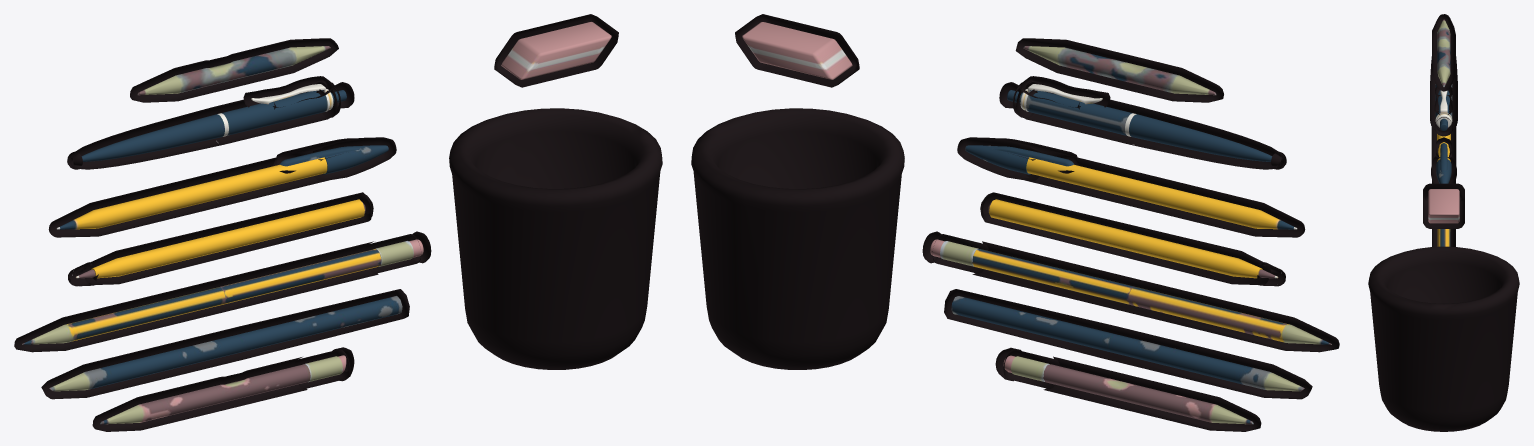
The model's file is SM_Int_Stationery.fbx.
3 renders of one model, left to right at view 1: azimuth 30°, elevation 25°; view 2: azimuth 150°, elevation 25°; view 3: azimuth 270°, elevation 25°, orthographic. The views are drawn at different scales.
Parts seen in each view (by area): view 1: SM_Int_Stationery; view 2: SM_Int_Stationery; view 3: SM_Int_Stationery.
Part boxes in pixels (left/top/right/bottom): SM_Int_Stationery: left=14, top=14, right=662, bottom=431; SM_Int_Stationery: left=691, top=14, right=1339, bottom=431; SM_Int_Stationery: left=1368, top=14, right=1519, bottom=431.
Bounding box in the file's own units: 0.3082 × 0.171 × 0.0903.
